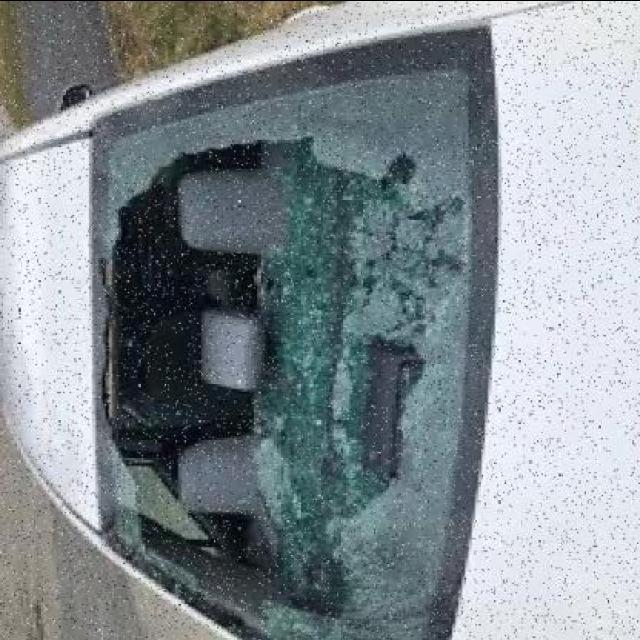Rear-windscreen-Damage: (102, 19, 515, 630)
